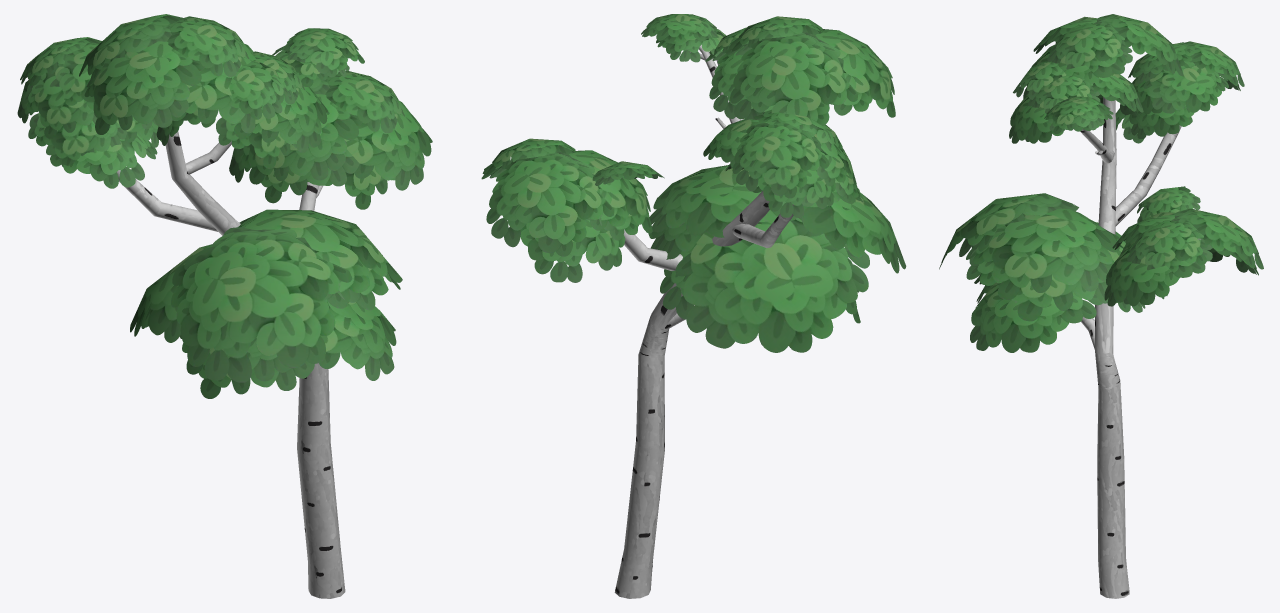
Rendered from quaternius-textured-stylized-trees-birch-6.glb.
3 renders of one model, left to right at view 1: azimuth 30°, elevation 25°; view 2: azimuth 150°, elevation 25°; view 3: azimuth 270°, elevation 25°, orthographic. The views are drawn at different scales.
Parts seen in each view (by area): view 1: Birch_6; view 2: Birch_6; view 3: Birch_6.
Boxes of the visible parts, x1,y1,x2,y2 form: Birch_6: (17, 14, 432, 598); Birch_6: (481, 14, 906, 598); Birch_6: (939, 14, 1263, 598).
Bounding box in the file's own units: 6.53 × 9.61 × 5.67.
2 materials, 2 textured.
